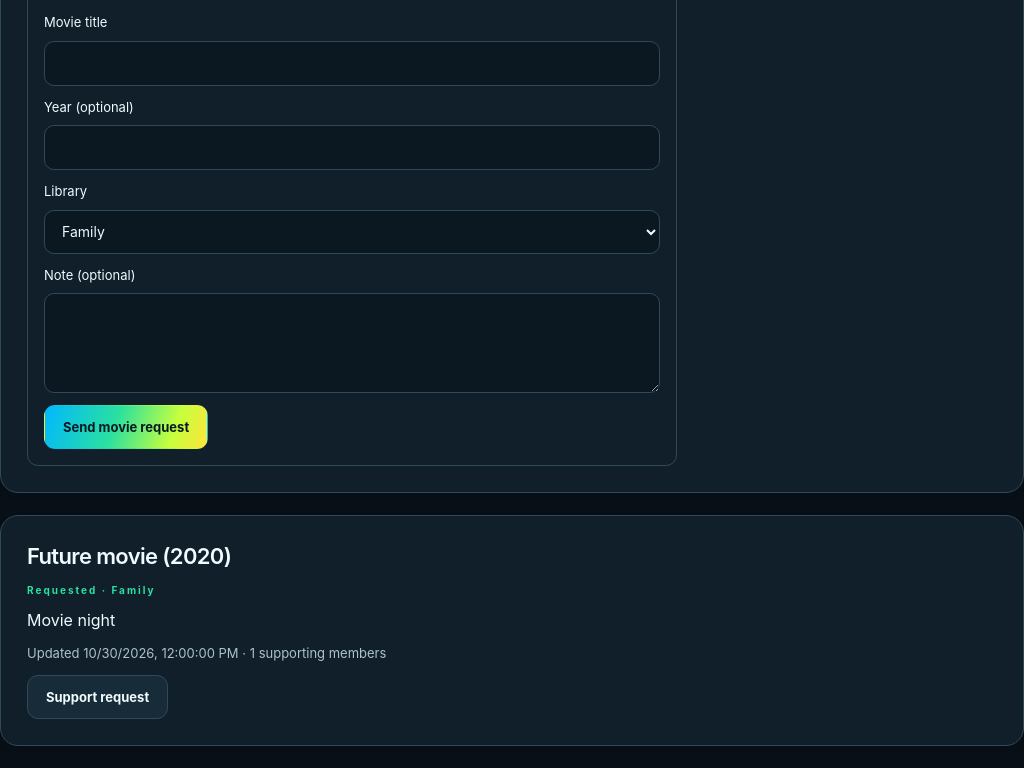
Test case: supports visible requests and preserves useful server errors
(page scrolled)
Step 1. Click the button "Support request" → click(98, 698), box [27, 676, 168, 720]
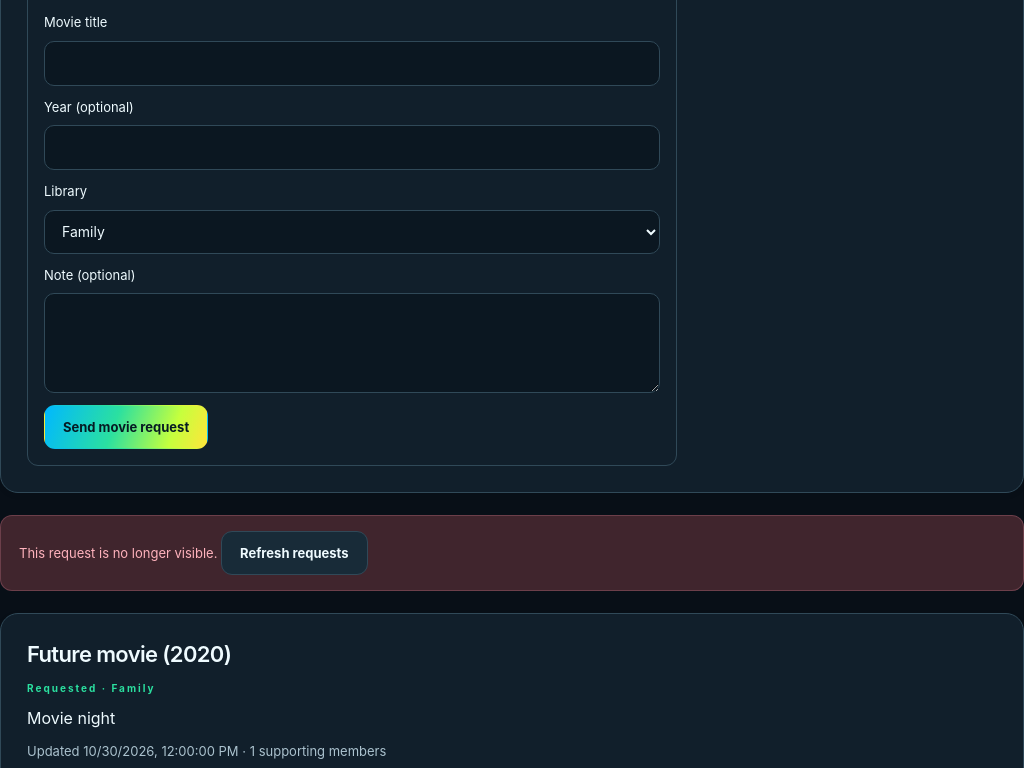
Check: the message shows "no longer visible", box [19, 545, 217, 561]
